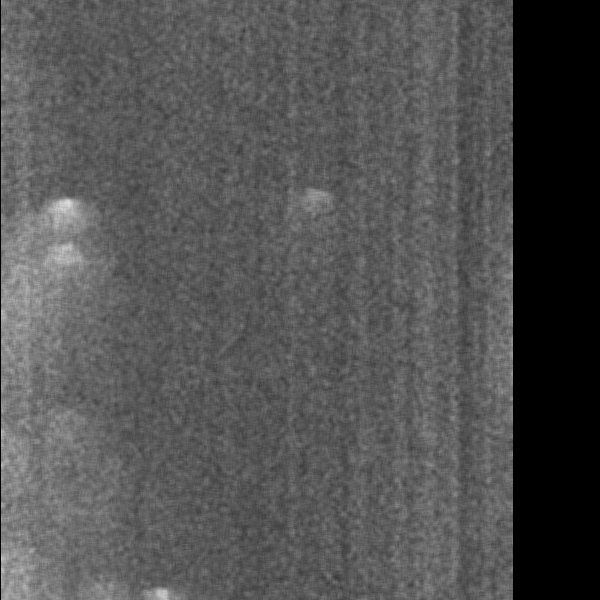spark: (290, 181, 345, 241), (137, 581, 177, 600)
